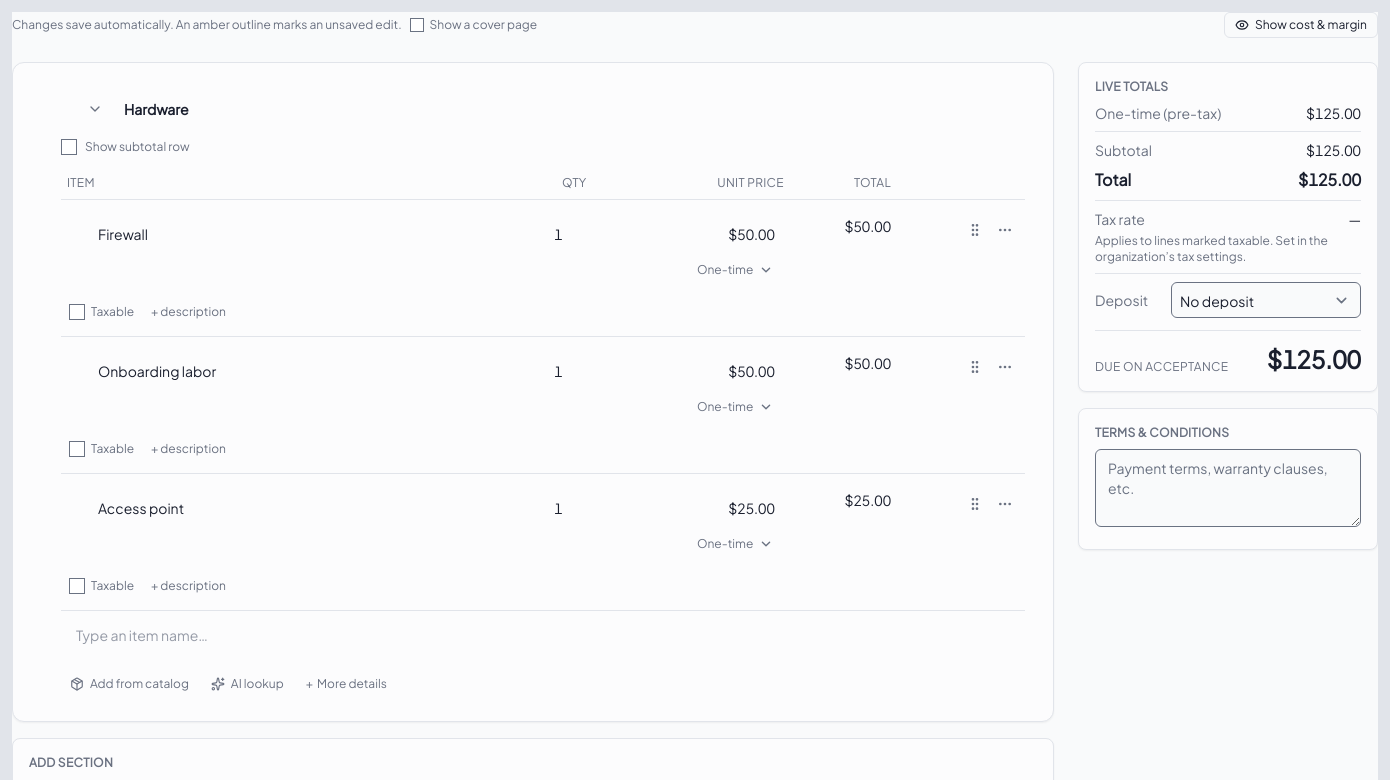
Test case: QuoteEditor — bulk edit (Task D) › selecting a line shows the bulk bar with the count; more selections update it
The image size is (1390, 780).
Step 1. Click the checkbox with test id "quote-line-select-line-1" → (265, 234), box [67,216,462,252]
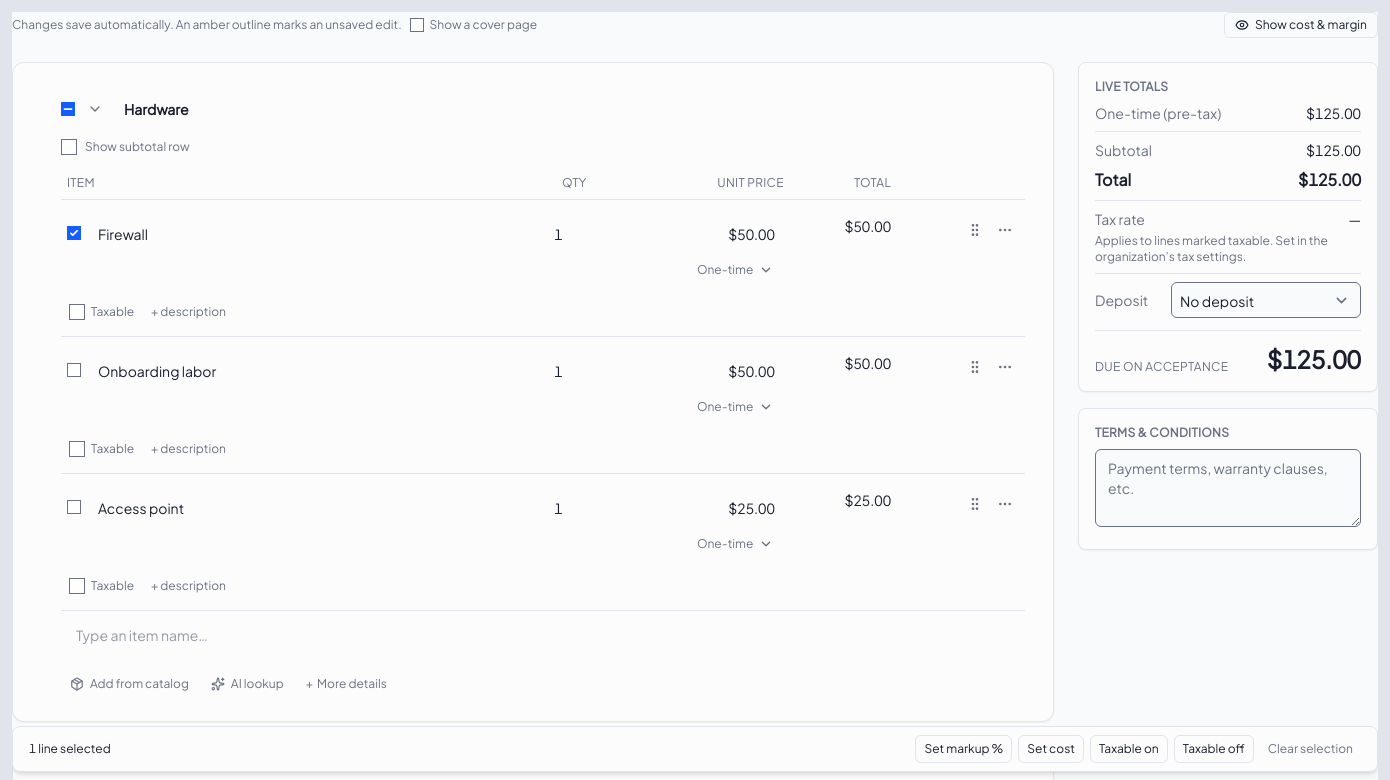
Expected: the element with test id "quote-bulk-bar" is shown, [12,726,1378,772]
Expected: the message with test id "quote-bulk-count" reads "1 line selected", [29,741,111,756]
Step 2. Click the checkbox with test id "quote-line-select-line-3" → (74, 507), box [67,500,81,514]
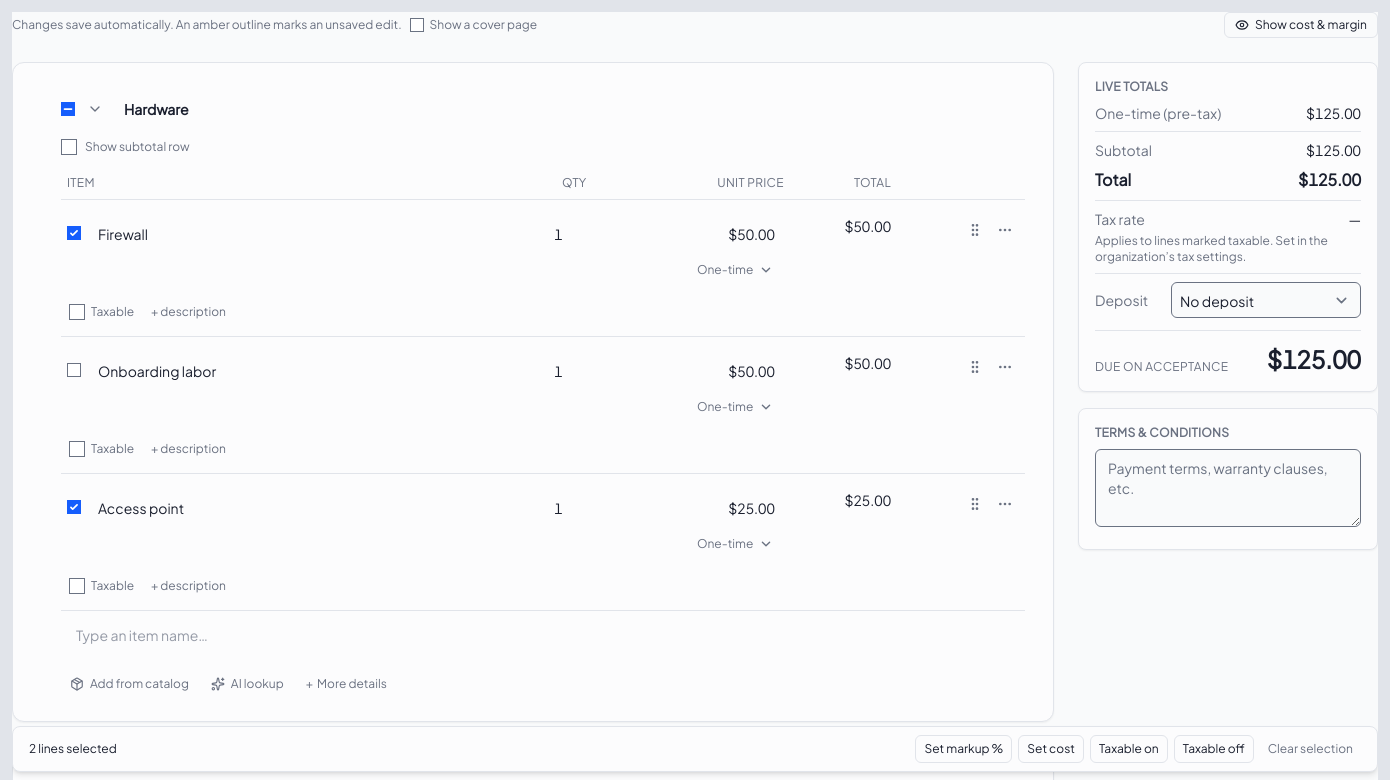
Expected: the checkbox with test id "quote-line-select-line-2" is not checked, [67,363,81,377]
Expected: the checkbox with test id "quote-line-select-line-1" is checked, [67,226,81,240]
Expected: the message with test id "quote-bulk-count" reads "2 lines selected", [29,741,117,756]
